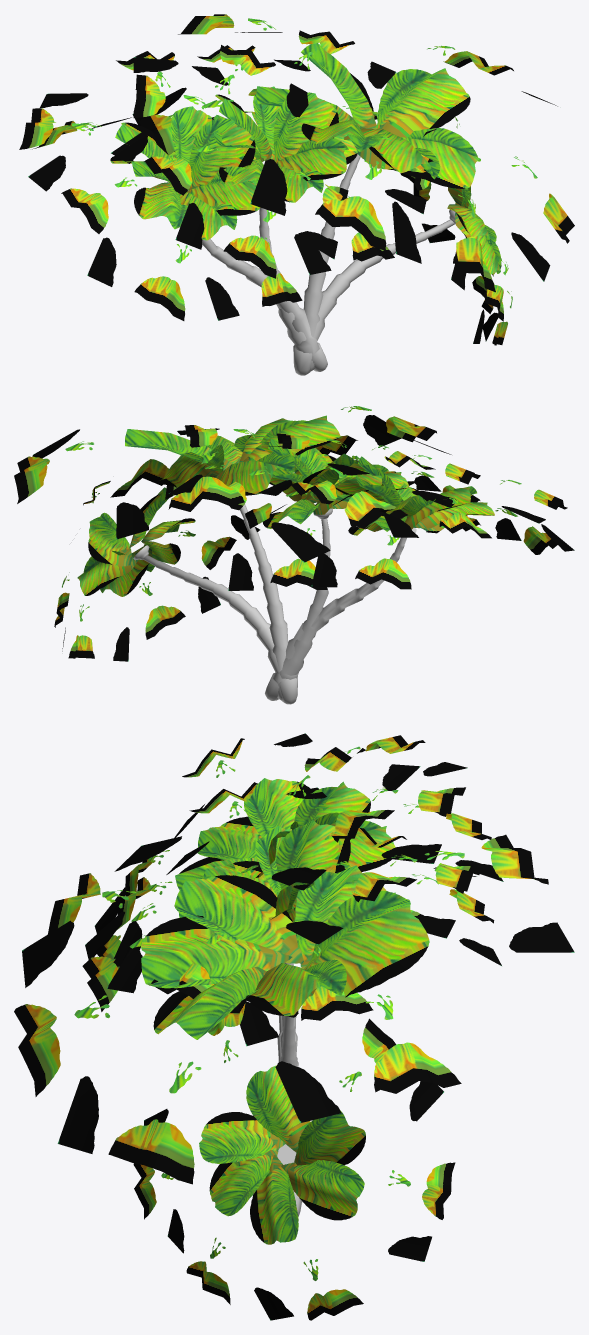
File: PalmTrees_Redo.fbx
The picture shows the model from 3 angles, top to bottom: view 1: azimuth 30°, elevation 25°; view 2: azimuth 150°, elevation 25°; view 3: azimuth 270°, elevation 25°; orthographic projection. The views are drawn at different scales.
Visible parts, largest first — view 1: trunk_003, trunk_006, trunk_005, trunk_001; view 2: trunk_003, trunk_006, trunk_001, trunk_005; view 3: trunk_003, trunk_001, trunk_005, trunk_006.
Part boxes in pixels (box(x1,y1,x2,y2)): trunk_003: box(132, 14, 574, 371); trunk_006: box(19, 45, 348, 363); trunk_005: box(111, 30, 433, 371); trunk_001: box(293, 117, 512, 375); trunk_003: box(14, 406, 451, 700); trunk_006: box(245, 433, 574, 679); trunk_001: box(54, 481, 297, 704); trunk_005: box(164, 425, 480, 700); trunk_003: box(14, 828, 574, 1184); trunk_001: box(133, 998, 455, 1320); trunk_005: box(82, 747, 501, 1216); trunk_006: box(94, 733, 503, 1061).
Bounding box in the file's own units: 605 × 452 × 347.
